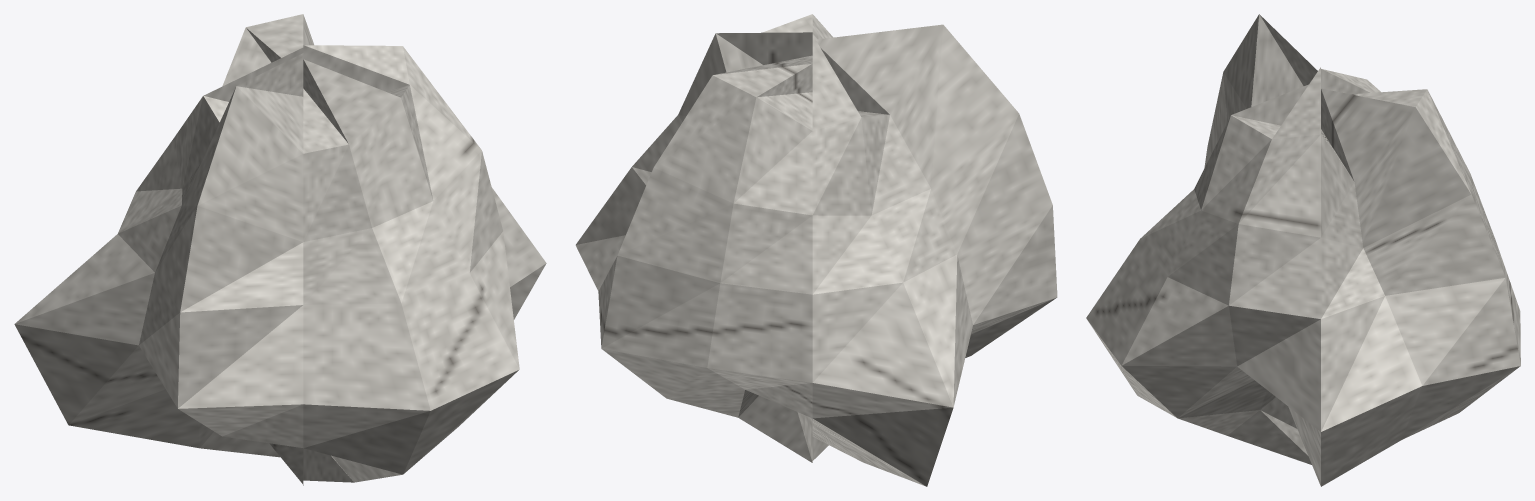
The model's file is rock2.obj.
The picture shows the model from 3 angles, left to right: view 1: azimuth 30°, elevation 25°; view 2: azimuth 150°, elevation 25°; view 3: azimuth 270°, elevation 25°; orthographic projection. The views are drawn at different scales.
Size of the model in its own units: 2.49 by 2.33 by 2.21.
Materials: 1 (1 with a texture image).
